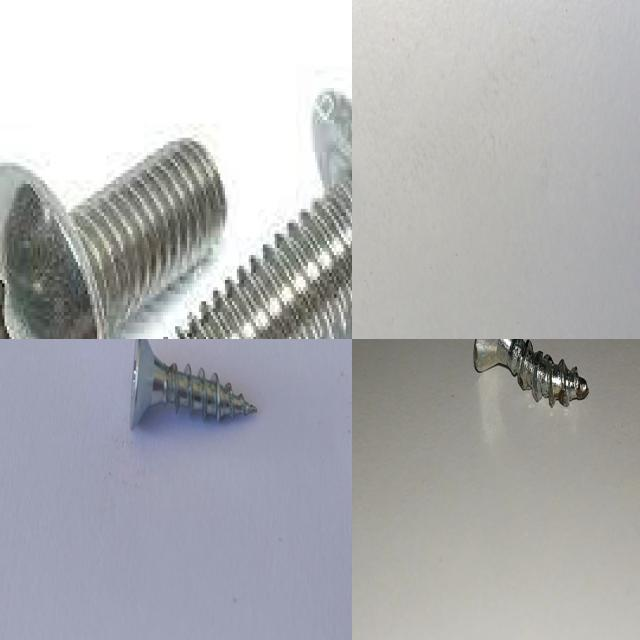Screw: (0, 138, 230, 339), (172, 88, 352, 339), (130, 339, 257, 428), (474, 339, 589, 406)
